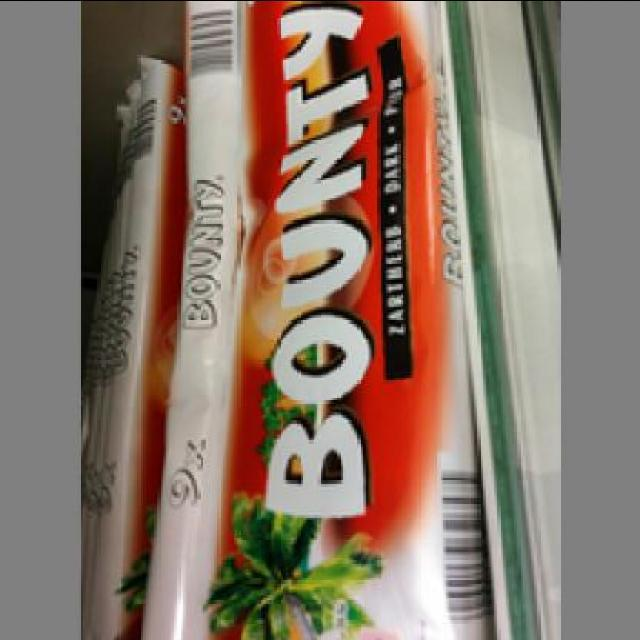Chocolate bar: (140, 3, 483, 639)
